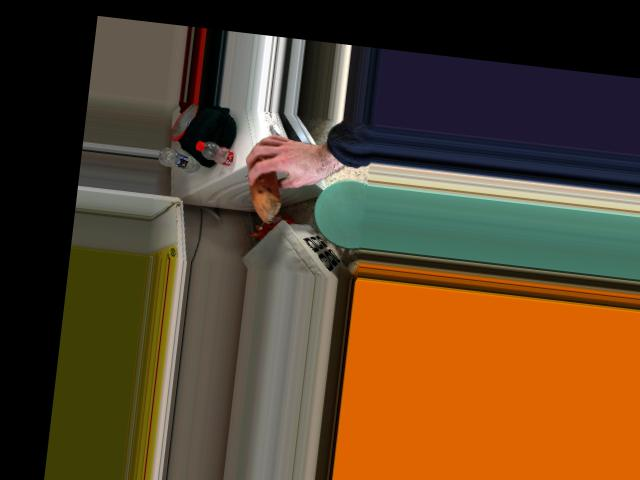sweet_potato: (247, 149, 285, 221)
